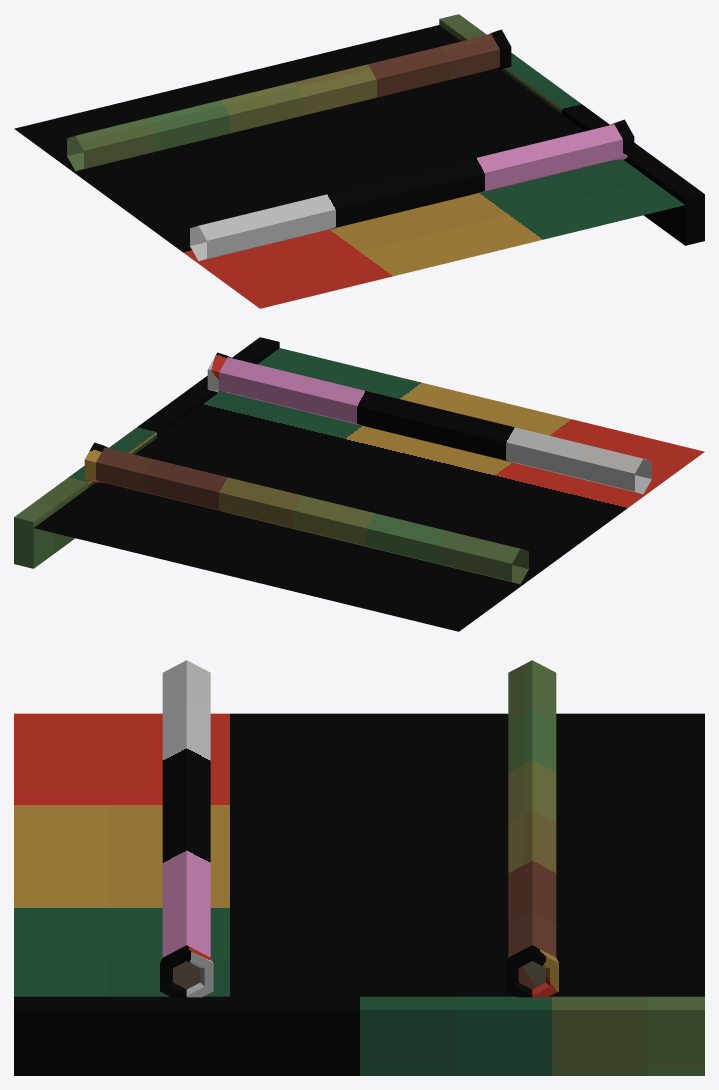
File: RoofBamboo.fbx
3 renders of one model, top to bottom at view 1: azimuth 30°, elevation 25°; view 2: azimuth 150°, elevation 25°; view 3: azimuth 270°, elevation 25°, orthographic. The views are drawn at different scales.
Parts seen in each view (by area): view 1: RoofBamboo, RoofBambooEdge; view 2: RoofBamboo, RoofBambooEdge; view 3: RoofBamboo, RoofBambooEdge.
Boxes of the visible parts, x1,y1,x2,y2 form: RoofBamboo: [14, 25, 684, 308]; RoofBambooEdge: [439, 14, 704, 245]; RoofBamboo: [34, 348, 704, 631]; RoofBambooEdge: [14, 337, 279, 568]; RoofBamboo: [14, 660, 704, 996]; RoofBambooEdge: [14, 945, 704, 1075].
Size of the model in its own units: 104 by 18.18 by 100.
